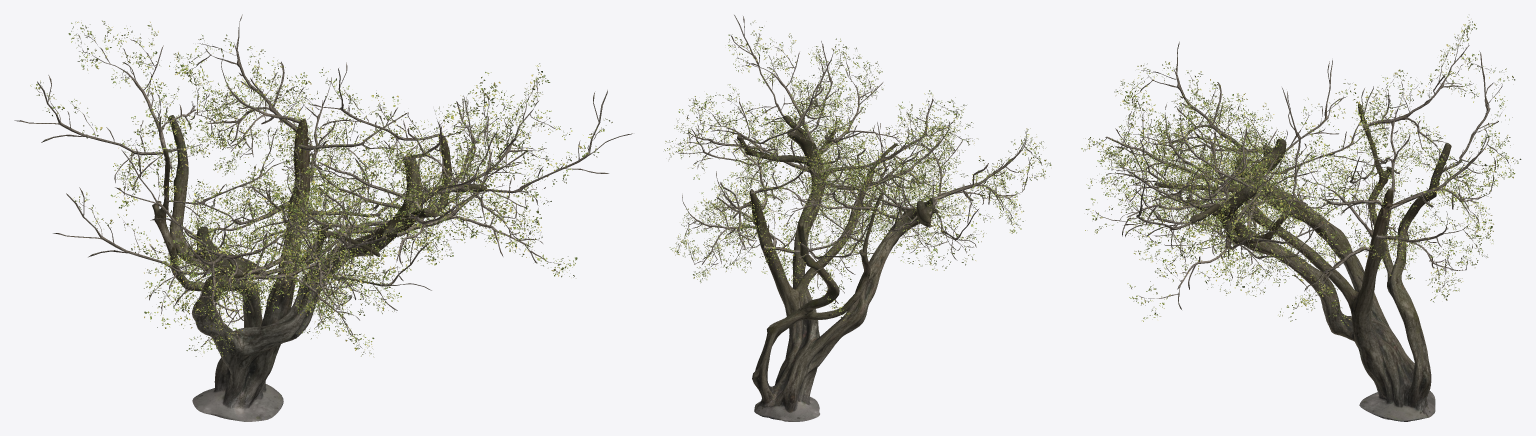
The model's file is island-tree-02.glb.
The picture shows the model from 3 angles, left to right: view 1: azimuth 30°, elevation 25°; view 2: azimuth 150°, elevation 25°; view 3: azimuth 270°, elevation 25°; orthographic projection. The views are drawn at different scales.
Parts seen in each view (by area): view 1: island_tree_02_LOD0; view 2: island_tree_02_LOD0; view 3: island_tree_02_LOD0.
Boxes of the visible parts, x1=… form: island_tree_02_LOD0: x1=14, y1=14, x2=632, y2=421; island_tree_02_LOD0: x1=664, y1=15, x2=1051, y2=421; island_tree_02_LOD0: x1=1081, y1=16, x2=1521, y2=421.
Bounding box in the file's own units: 4.21 × 3.41 × 4.04.
Materials: 3 (3 with a texture image).
